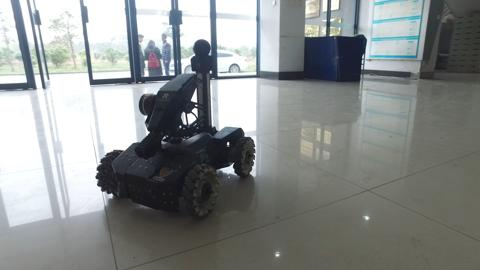chariot: (90, 38, 274, 218)
